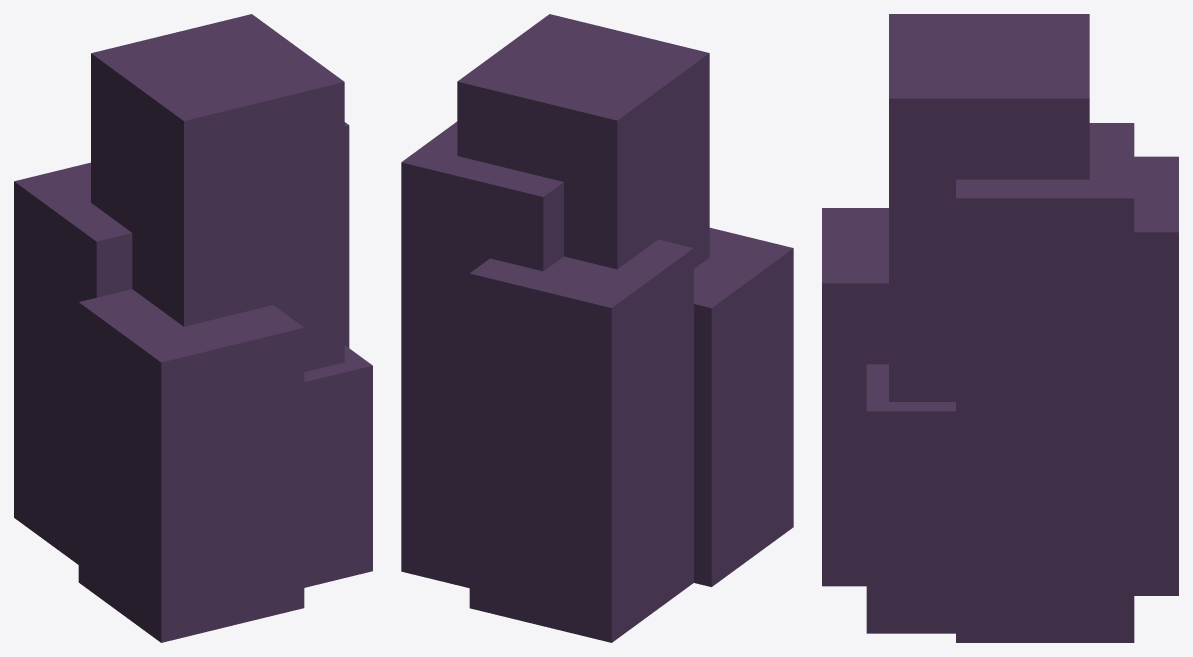
File: Level3Crystal_5.dae
3 views of the same model, side by side, from view 1: azimuth 30°, elevation 25°; view 2: azimuth 150°, elevation 25°; view 3: azimuth 270°, elevation 25° (orthographic). The views are drawn at different scales.
Visible parts, largest first — view 1: Level3Crystal_5; view 2: Level3Crystal_5; view 3: Level3Crystal_5.
Part boxes in pixels (x1,y1,x2,y2): Level3Crystal_5: (14, 14, 372, 642); Level3Crystal_5: (401, 14, 793, 642); Level3Crystal_5: (822, 14, 1178, 642).
Bounding box in the file's own units: 1.4 × 2.6 × 1.6.
Materials: 1 (1 with a texture image).
